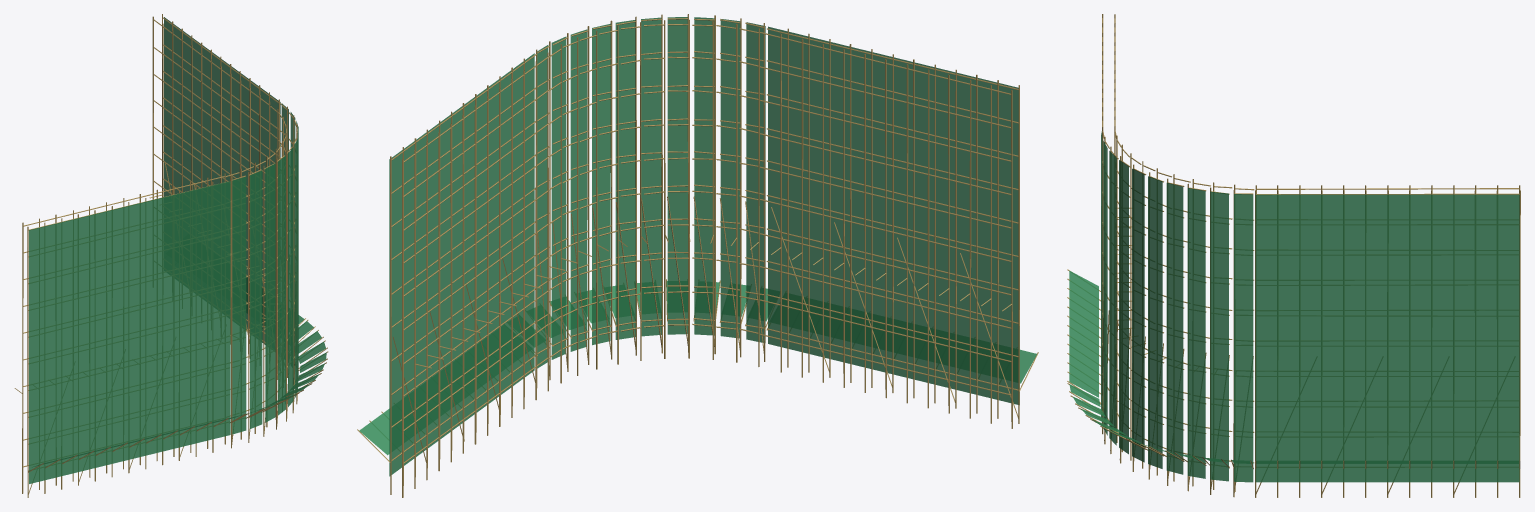
Rendered from hk-moderne-corner-scaffold.glb.
The picture shows the model from 3 angles, left to right: view 1: azimuth 30°, elevation 25°; view 2: azimuth 150°, elevation 25°; view 3: azimuth 270°, elevation 25°; orthographic projection. The views are drawn at different scales.
Parts seen in each view (by area): view 1: Scaffold_net, Scaffold_bamboo; view 2: Scaffold_net, Scaffold_bamboo; view 3: Scaffold_net, Scaffold_bamboo.
Boxes of the visible parts, bbox=[...] form: Scaffold_net: bbox=[29, 17, 326, 483]; Scaffold_bamboo: bbox=[14, 14, 328, 497]; Scaffold_net: bbox=[359, 17, 1036, 476]; Scaffold_bamboo: bbox=[357, 14, 1038, 497]; Scaffold_net: bbox=[1069, 131, 1519, 482]; Scaffold_bamboo: bbox=[1067, 14, 1520, 497].
Size of the model in its own units: 25.77 by 19.25 by 25.78.
